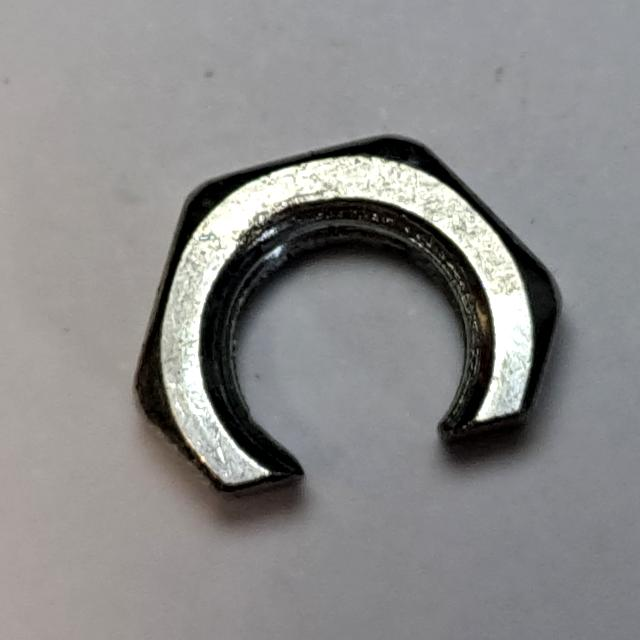Fracture: (115, 121, 575, 519)
